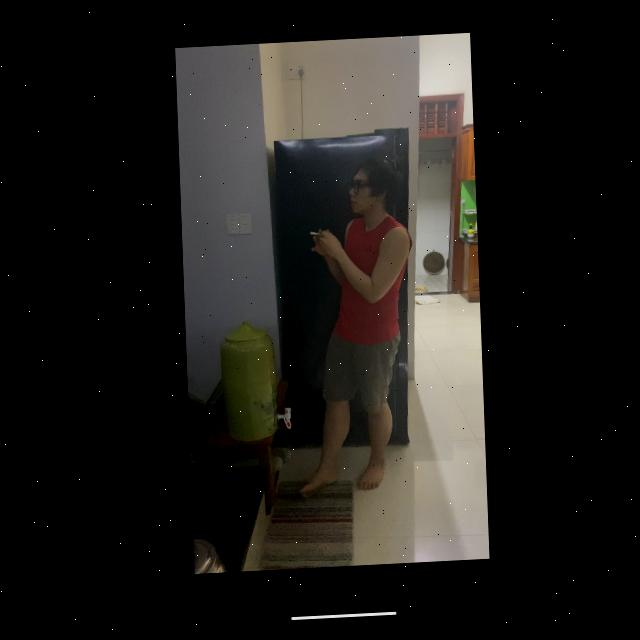cigarette: (308, 235, 320, 240)
